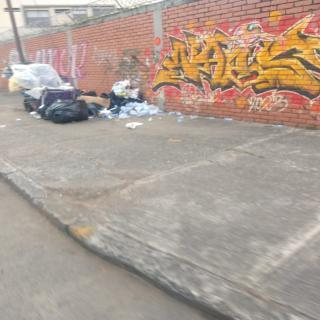Garbage: (45, 97, 90, 123)
